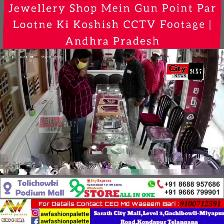person: (59, 49, 92, 161), (122, 49, 145, 142), (142, 49, 165, 113), (92, 49, 103, 69), (114, 50, 123, 70), (136, 49, 143, 62)
